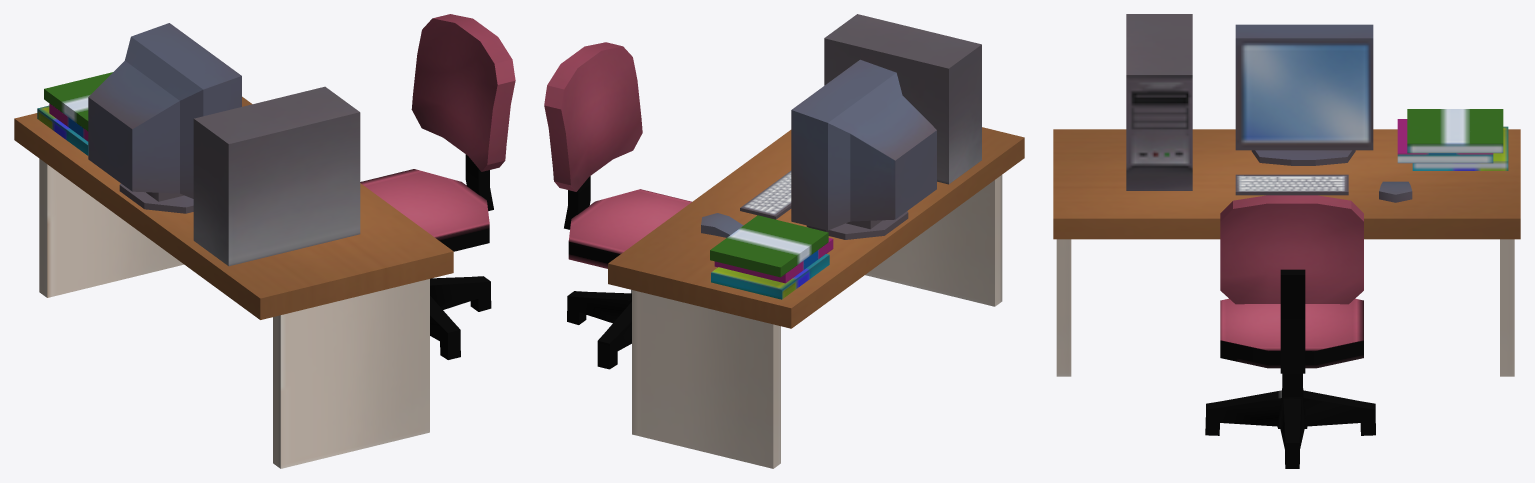
Rendered from Lux_Comp_T2.fbx.
3 renders of one model, left to right at view 1: azimuth 30°, elevation 25°; view 2: azimuth 150°, elevation 25°; view 3: azimuth 270°, elevation 25°, orthographic. The views are drawn at different scales.
Visible parts, largest first — view 1: Lux_Comp_T2; view 2: Lux_Comp_T2; view 3: Lux_Comp_T2.
Part boxes in pixels (box(x1,y1,x2,y2)): Lux_Comp_T2: box(14, 14, 515, 468); Lux_Comp_T2: box(544, 14, 1024, 468); Lux_Comp_T2: box(1053, 14, 1520, 468).
Size of the model in its own units: 7.22 by 5.94 by 8.29.
Materials: 1 (1 with a texture image).
